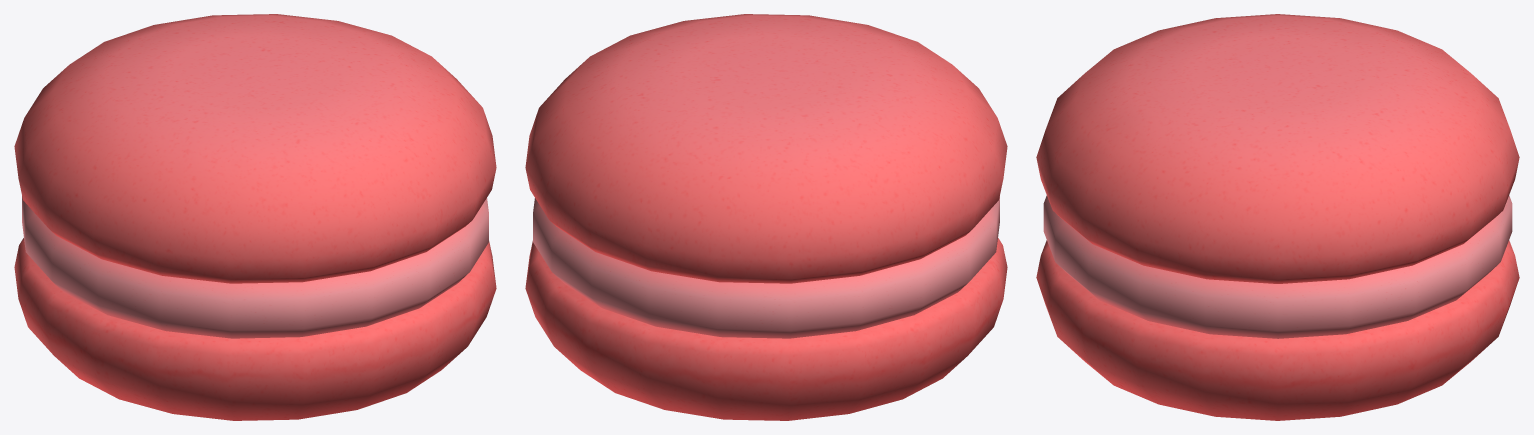
The model's file is pastries2.fbx.
3 views of the same model, side by side, from view 1: azimuth 30°, elevation 25°; view 2: azimuth 150°, elevation 25°; view 3: azimuth 270°, elevation 25° (orthographic).
Visible parts, largest first — view 1: pastries2; view 2: pastries2; view 3: pastries2.
Boxes of the visible parts, x1,y1,x2,y2 form: pastries2: (14,14,496,420); pastries2: (525,14,1007,420); pastries2: (1036,14,1519,420).
Bounding box in the file's own units: 4856 × 3218 × 4856.
1 material, 1 textured.
